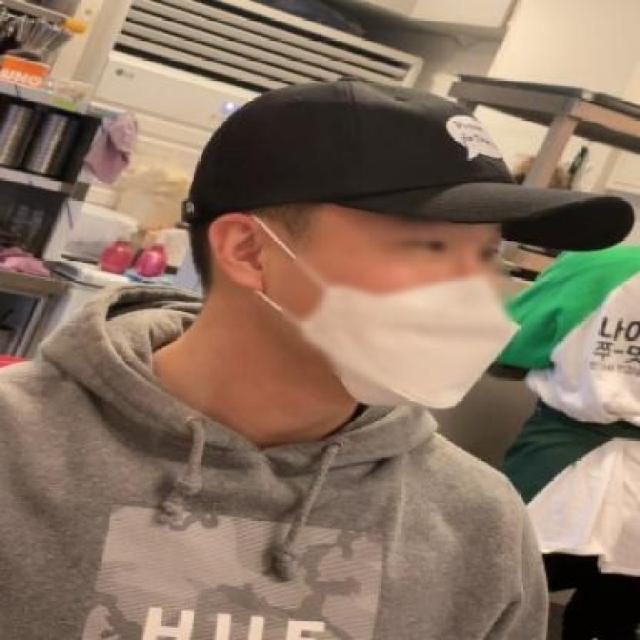hat: (181, 75, 639, 254)
